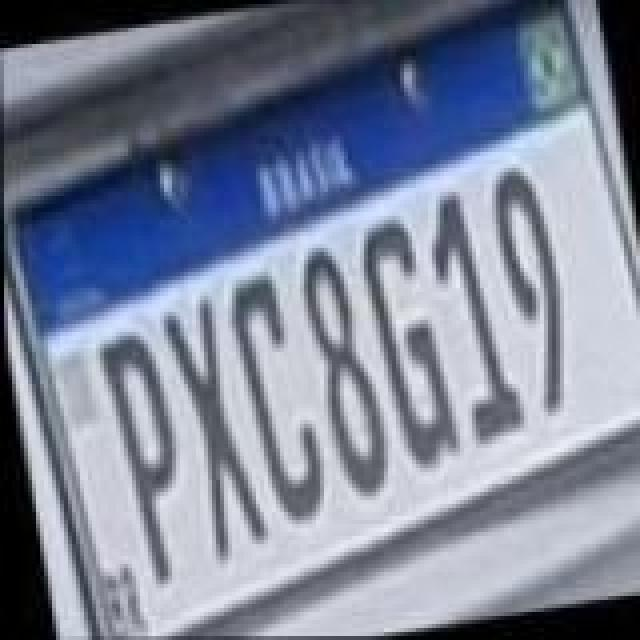1: (412, 180, 524, 452)
8: (290, 238, 394, 510)
9: (482, 156, 582, 420)
C: (218, 264, 330, 528)
G: (346, 210, 462, 478)
P: (92, 322, 200, 594)
X: (154, 288, 270, 564)
